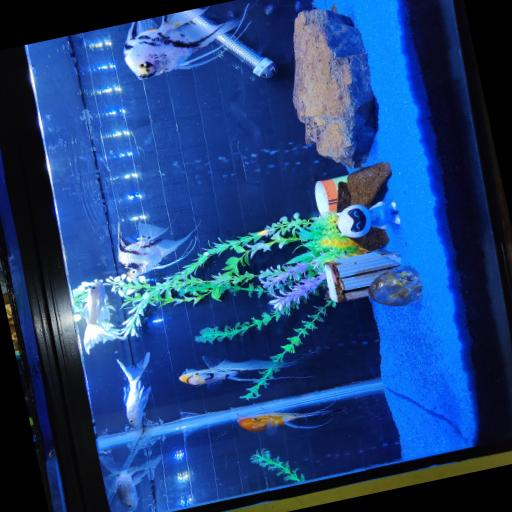Fish: (124, 7, 245, 78), (118, 222, 196, 278), (179, 355, 302, 387), (100, 455, 161, 510), (83, 280, 126, 353), (238, 408, 343, 433), (117, 352, 150, 425)
